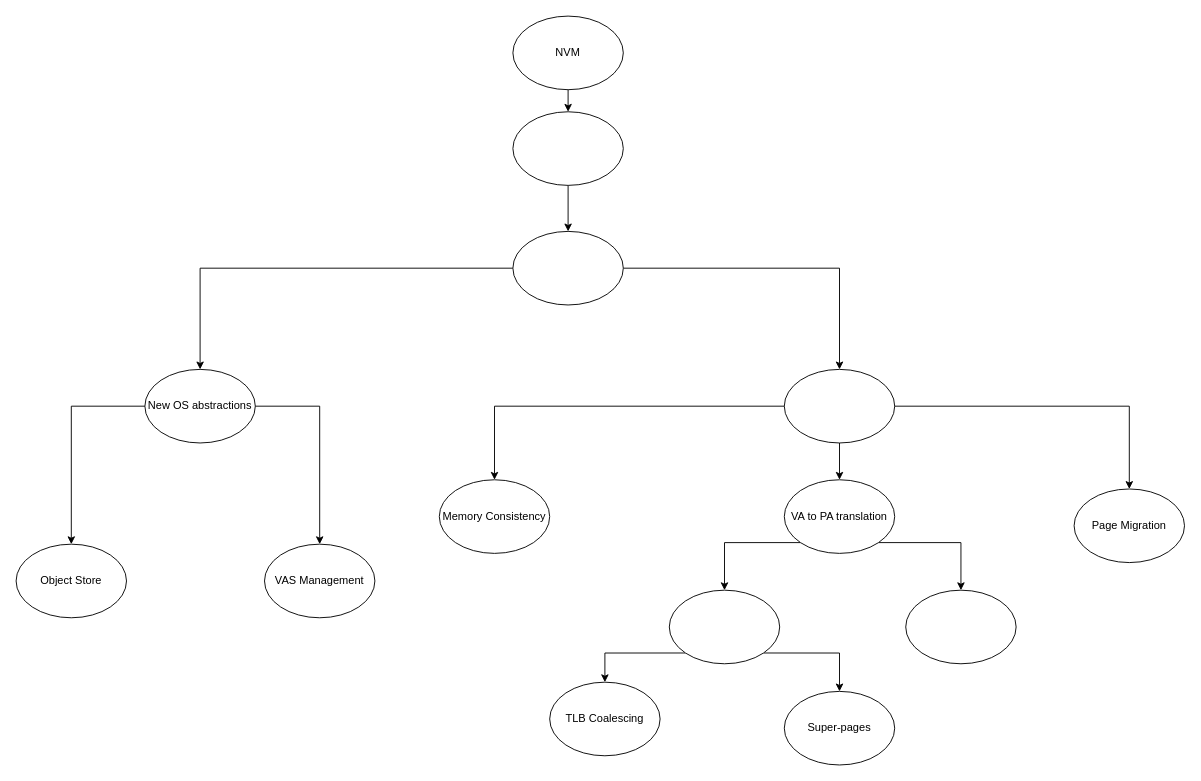
Image size: 1201x781. Some labels were removed from this diagram. The box of each missing label's shape, as (x1, y1, x2, y2) in pixels:
Better translation: (905, 589, 1016, 664)
Memory Management: (783, 368, 895, 443)
OS: (512, 230, 623, 305)
System software: (512, 111, 623, 185)
TLB Coverage: (668, 589, 780, 664)
